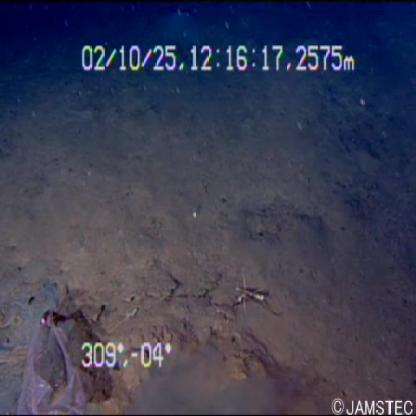Rác: (10, 286, 96, 414)
